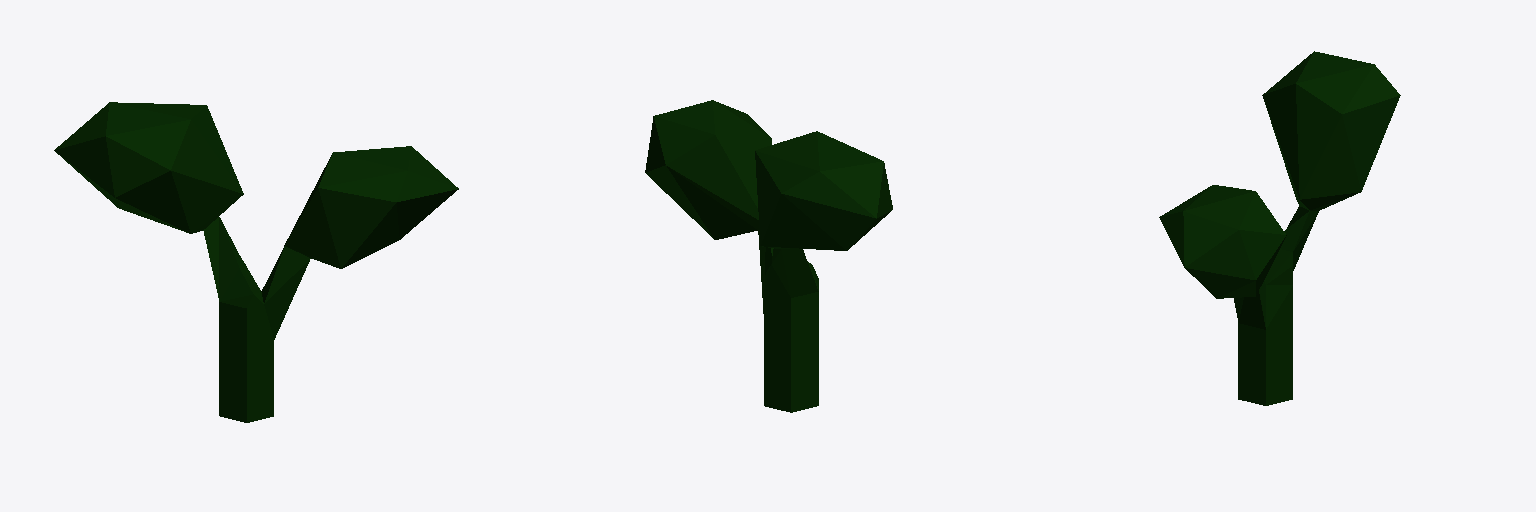
The model's file is sprout.obj.
3 renders of one model, left to right at view 1: azimuth 30°, elevation 25°; view 2: azimuth 150°, elevation 25°; view 3: azimuth 270°, elevation 25°, orthographic.
Visible parts, largest first — view 1: pPlatonic4; view 2: pPlatonic4; view 3: pPlatonic4.
Part boxes in pixels (x1,y1,x2,y2): pPlatonic4: (54, 102, 458, 422); pPlatonic4: (645, 100, 892, 412); pPlatonic4: (1159, 51, 1400, 405).
Bounding box in the file's own units: 2.83 × 2.52 × 1.9.